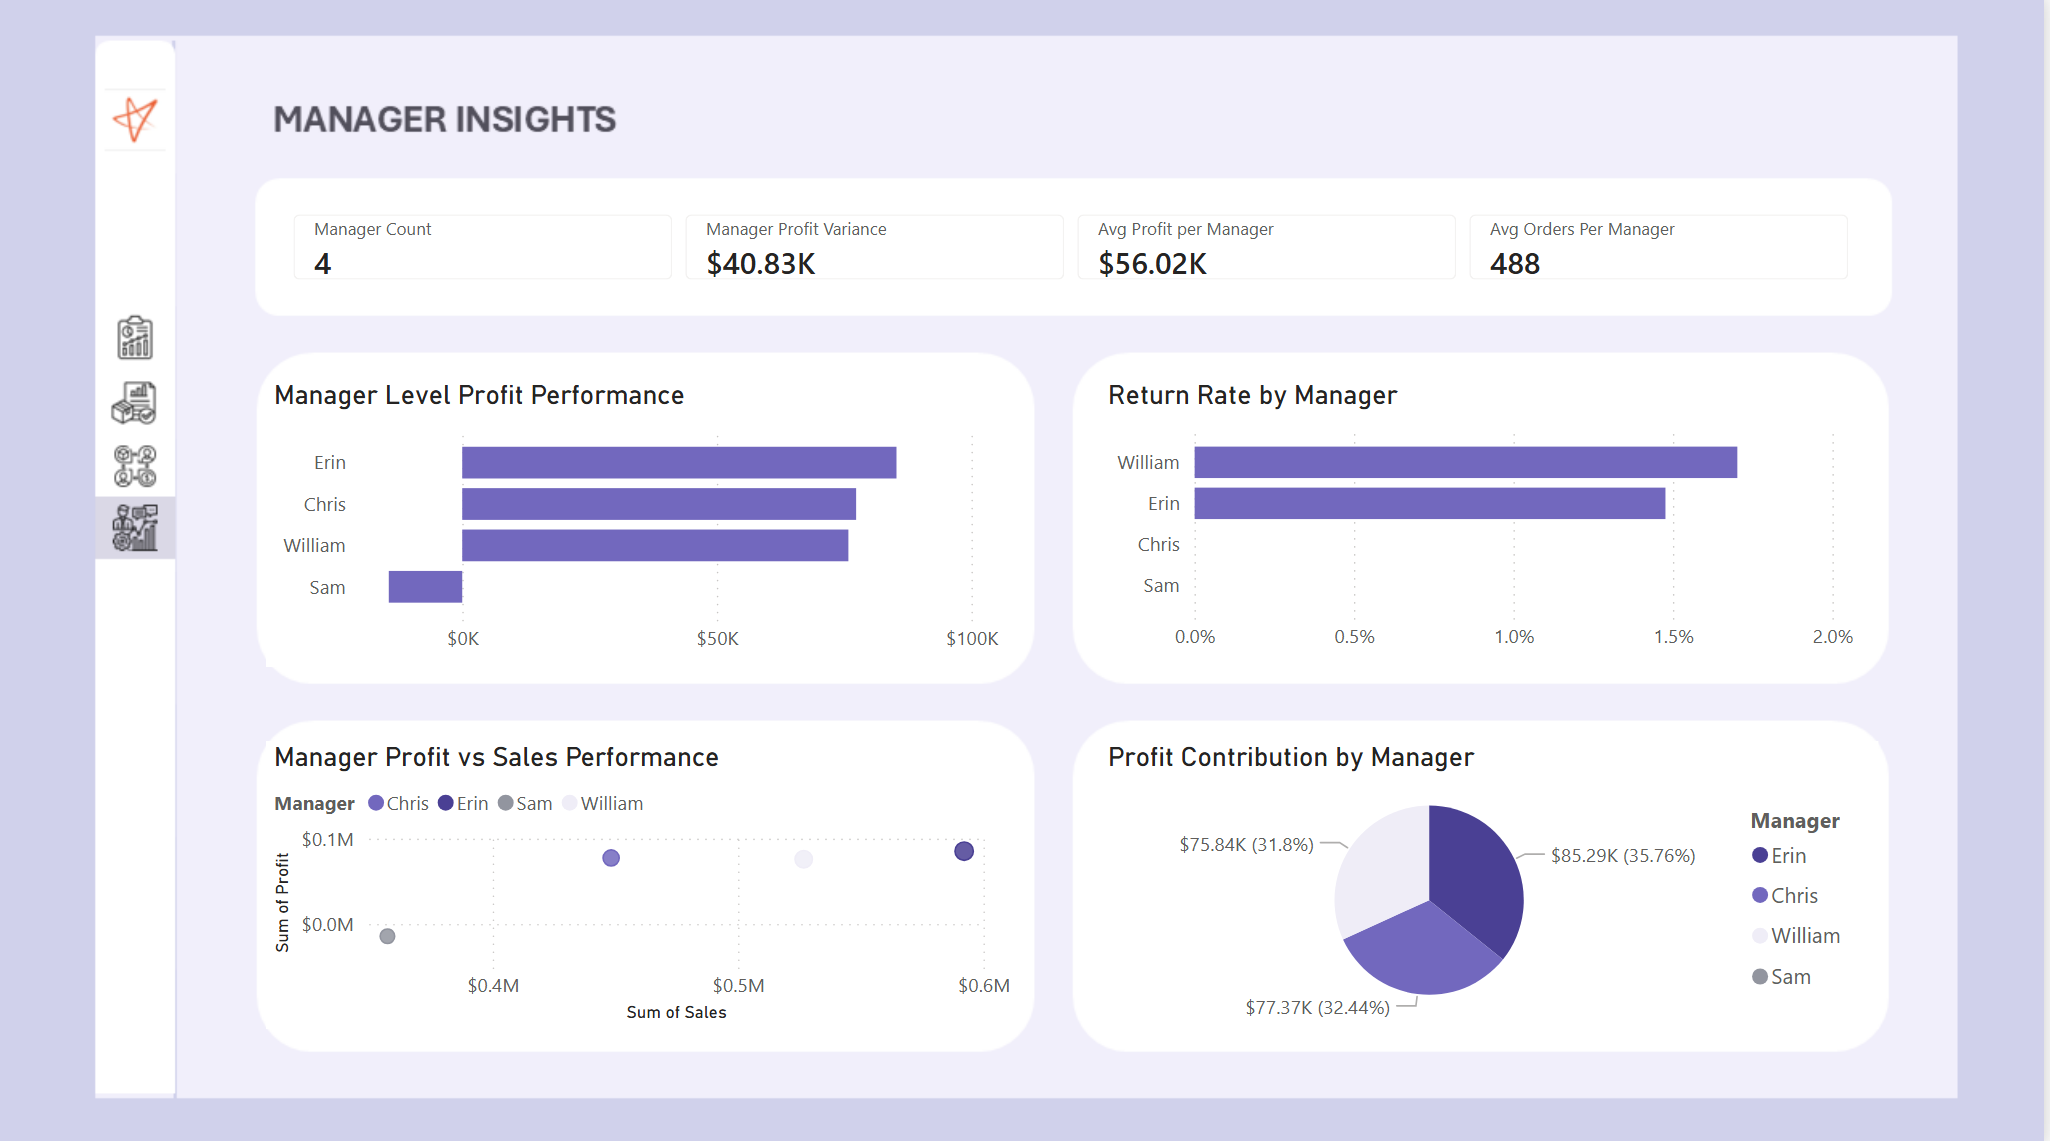

What the dashboard file says about the page in this screenshot:
{"tool":"powerbi","page":{"name":"Page 4","canvas":[1280,720],"ordinal":3},"visuals":[{"type":"cardVisual","fields":{"Data":["Profit Bridge.Manager Count","outputssuperstore_cleaned.Manager Profit Variance","Profit Bridge.Avg Profit per Manager","Profit Bridge.Avg Orders Per Manager"]},"box":[169.3,120,1007.1,75],"z":0},{"type":"barChart","title":"Return Rate by Manager","fields":{"Category":["outputssuperstore_cleaned.Manager"],"Y":["outputssuperstore_cleaned.Return Rate %"]},"box":[690,240,475.7,178.9],"z":1000},{"type":"pieChart","title":"Profit Contribution by Manager","fields":{"Y":["Sum(outputssuperstore_cleaned.Profit)"],"Category":["outputssuperstore_cleaned.Manager"]},"box":[690,466.1,486.4,180],"z":2000},{"type":"clusteredBarChart","title":"Manager Level Profit Performance","fields":{"Y":["Sum(outputssuperstore_cleaned.Profit)"],"Category":["outputssuperstore_cleaned.Manager"]},"box":[169.3,240,462.9,180],"z":3000},{"type":"scatterChart","title":"Manager Profit vs Sales Performance","fields":{"Y":["Sum(outputssuperstore_cleaned.Profit)"],"X":["Sum(outputssuperstore_cleaned.Sales)"],"Size":["Sum(outputssuperstore_cleaned.Sales)"],"Series":["outputssuperstore_cleaned.Manager"]},"box":[169.3,466.1,470.4,180],"z":4000},{"type":"pageNavigator","box":[71.8,195,32.1,156.4],"z":5000}]}

Visuals, with their boxes on the page's 1280x720 design canvas (x1, y1, x2, y2). These are canvas units, not pixel positions in the 2050x1141 screenshot, which may show the page scaled, cropped or inside an application window:
cardVisual - Profit Bridge.Manager Count x outputssuperstore_cleaned.Manager Profit Variance: <box>169,120,1176,195</box>
"Return Rate by Manager" barChart: <box>690,240,1166,419</box>
"Profit Contribution by Manager" pieChart: <box>690,466,1176,646</box>
"Manager Level Profit Performance" clusteredBarChart: <box>169,240,632,420</box>
"Manager Profit vs Sales Performance" scatterChart: <box>169,466,640,646</box>
pageNavigator: <box>72,195,104,351</box>
